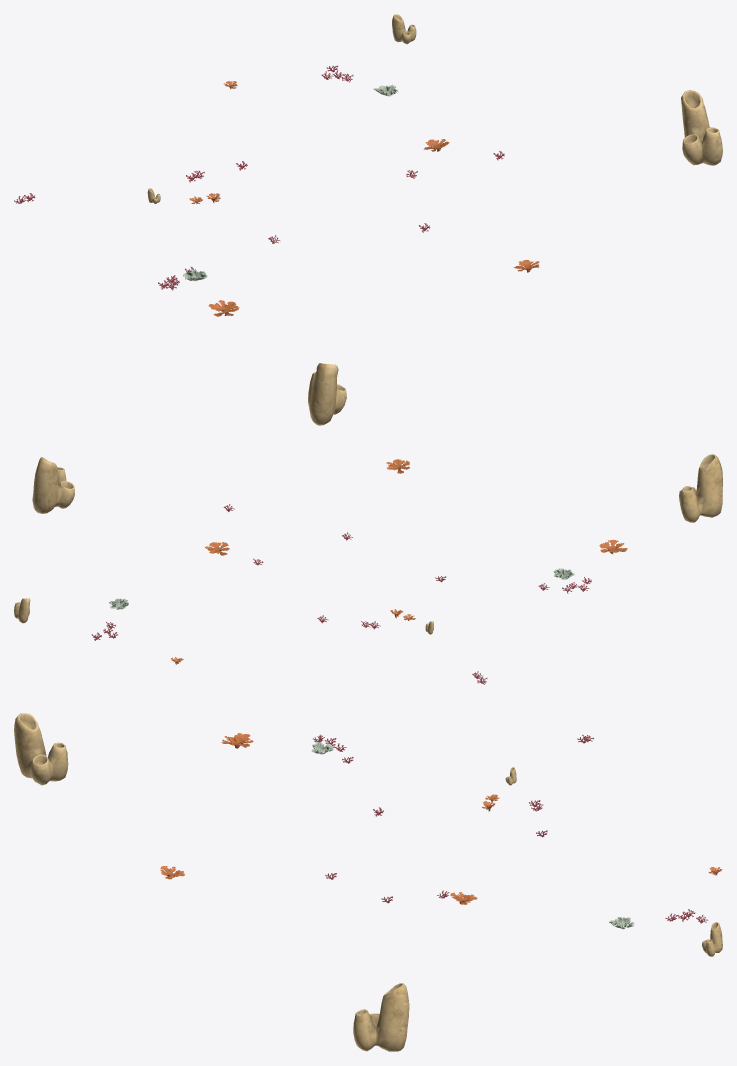
File: aquarium_coral.glb
The picture shows the model from 3 angles, top to bottom: view 1: azimuth 30°, elevation 25°; view 2: azimuth 150°, elevation 25°; view 3: azimuth 270°, elevation 25°; orthographic projection. The views are drawn at different scales.
Parts seen in each view (by area): view 1: Coral_15_3.002, Coral_15_3.003; view 2: Coral_15_3.003, Coral_15_3.002; view 3: Coral_15_3.002, Coral_15_3.003.
Boxes of the visible parts, x1,y1,x2,y2 form: Coral_15_3.002: (681,90,722,165); Coral_15_3.003: (308,363,346,425); Coral_15_3.003: (679,454,722,522); Coral_15_3.002: (32,457,74,513); Coral_15_3.002: (353,983,409,1051); Coral_15_3.003: (14,713,68,785).
Bounding box in the file's own units: 61.94 × 6.25 × 63.39.
4 materials, 4 textured.
